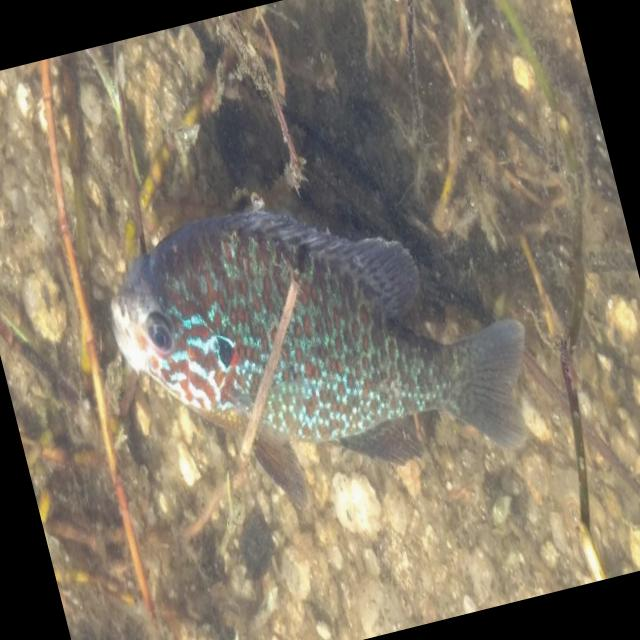Gunes Levregi: (77, 116, 568, 540)
